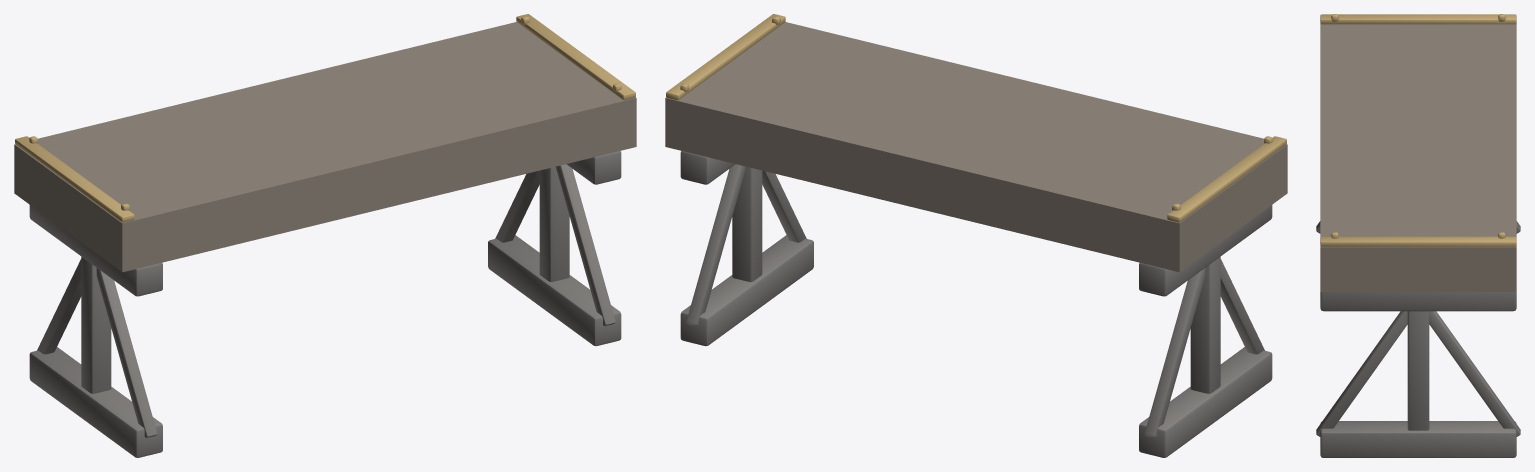
File: SM_Area2_Deck_55.glb
The picture shows the model from 3 angles, left to right: view 1: azimuth 30°, elevation 25°; view 2: azimuth 150°, elevation 25°; view 3: azimuth 270°, elevation 25°; orthographic projection. The views are drawn at different scales.
Parts seen in each view (by area): view 1: SM_Area2_Deck_55; view 2: SM_Area2_Deck_55; view 3: SM_Area2_Deck_55.
Boxes of the visible parts, box(x1,y1,x2,y2) form: SM_Area2_Deck_55: box(14, 14, 636, 457); SM_Area2_Deck_55: box(665, 14, 1287, 457); SM_Area2_Deck_55: box(1316, 14, 1520, 457).
Size of the model in its own units: 5.5 by 2.56 by 2.08.
